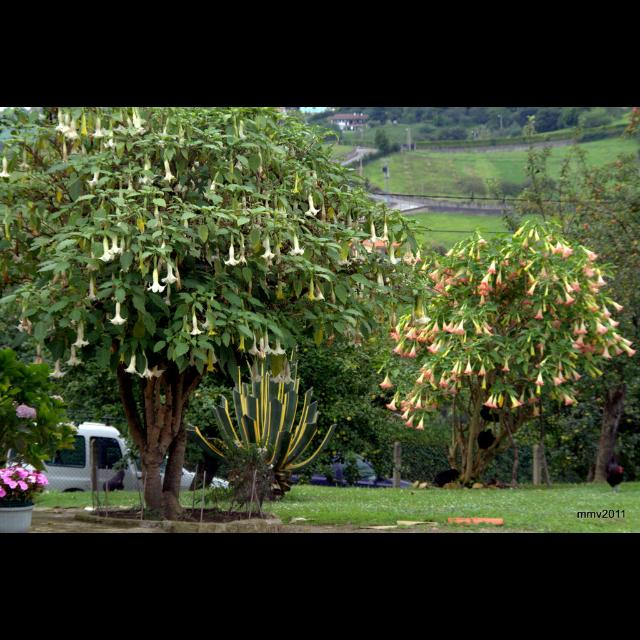Flower: (481, 220, 634, 416), (428, 226, 492, 300), (54, 108, 142, 160), (391, 304, 467, 354), (416, 348, 486, 394), (0, 462, 46, 498), (399, 392, 428, 430), (140, 346, 158, 378), (261, 236, 281, 264), (146, 270, 166, 296), (306, 192, 324, 220), (86, 164, 102, 192), (75, 322, 92, 348), (109, 301, 129, 323), (161, 263, 179, 287), (288, 232, 306, 256), (141, 163, 159, 185), (236, 116, 250, 144), (99, 236, 115, 260), (66, 342, 82, 364), (223, 243, 239, 264), (316, 281, 330, 305), (48, 360, 66, 378), (162, 157, 176, 180), (125, 355, 141, 375), (13, 407, 39, 419), (190, 312, 203, 336), (348, 328, 362, 350), (0, 158, 12, 182), (18, 146, 30, 170), (382, 218, 392, 245), (345, 210, 353, 242), (200, 309, 214, 327), (256, 150, 266, 174), (404, 243, 416, 263), (380, 373, 394, 389), (236, 334, 248, 352), (388, 394, 398, 414), (111, 238, 122, 256), (326, 329, 336, 347), (305, 280, 313, 302), (370, 222, 378, 244), (120, 233, 126, 251), (416, 246, 422, 264), (52, 396, 64, 404)
